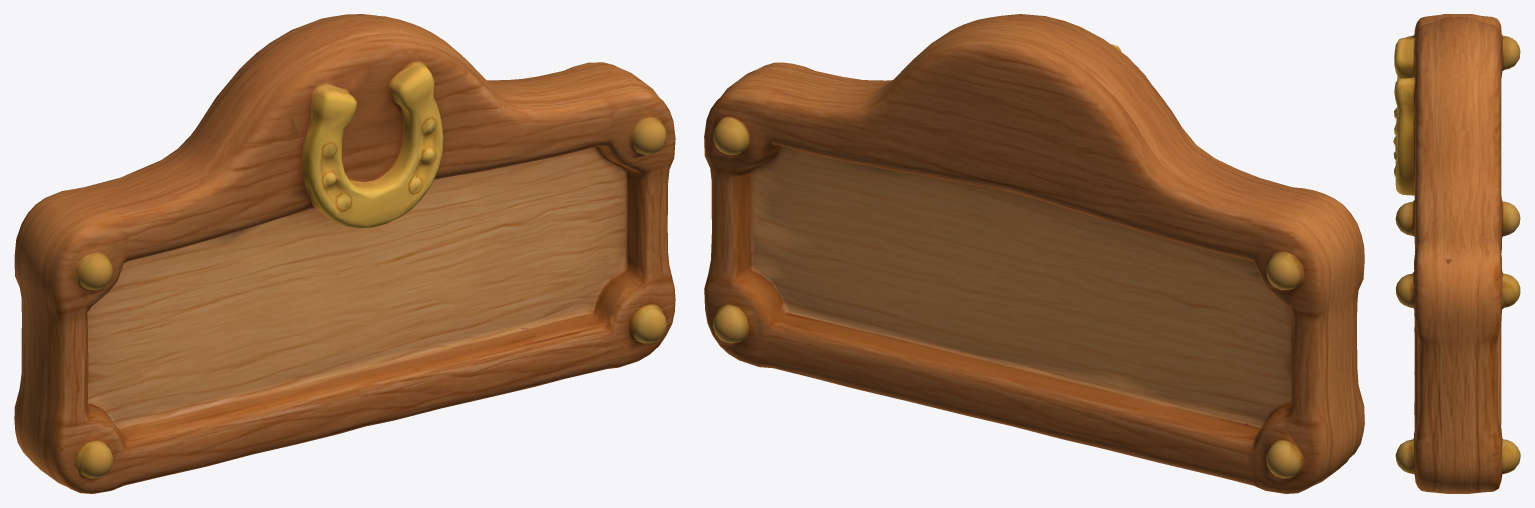
The picture shows the model from 3 angles, left to right: view 1: azimuth 30°, elevation 25°; view 2: azimuth 150°, elevation 25°; view 3: azimuth 270°, elevation 25°; orthographic projection. The views are drawn at different scales.
Parts seen in each view (by area): view 1: plate-oak; view 2: plate-oak; view 3: plate-oak.
Part boxes in pixels (bbox=[...]): plate-oak: bbox=[14, 14, 675, 493]; plate-oak: bbox=[704, 14, 1364, 493]; plate-oak: bbox=[1393, 14, 1520, 493].
Bounding box in the file's own units: 1.2 × 0.7179 × 0.2405.
1 material, 1 textured.
